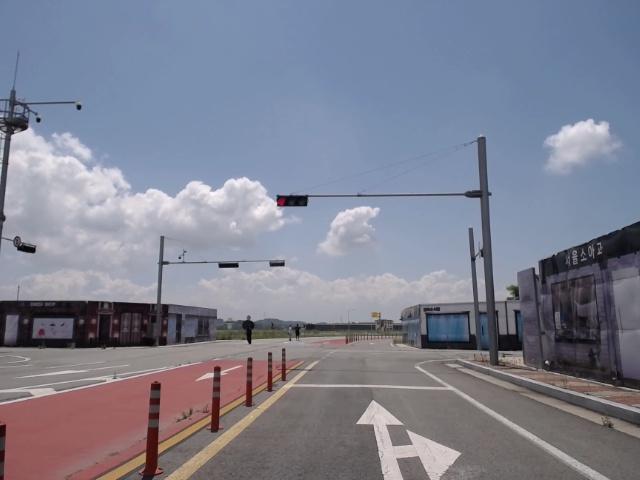red_3: (277, 195, 307, 208)
